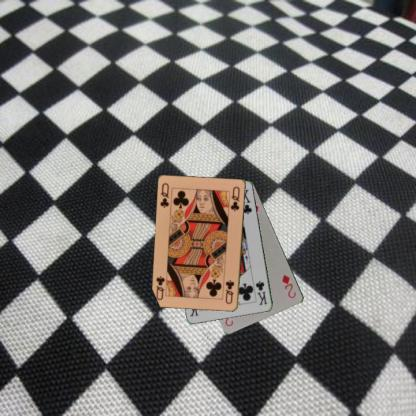2d: (280, 272, 298, 299)
Kc: (253, 279, 269, 306)
Qc: (223, 277, 236, 305), (158, 180, 170, 209)
